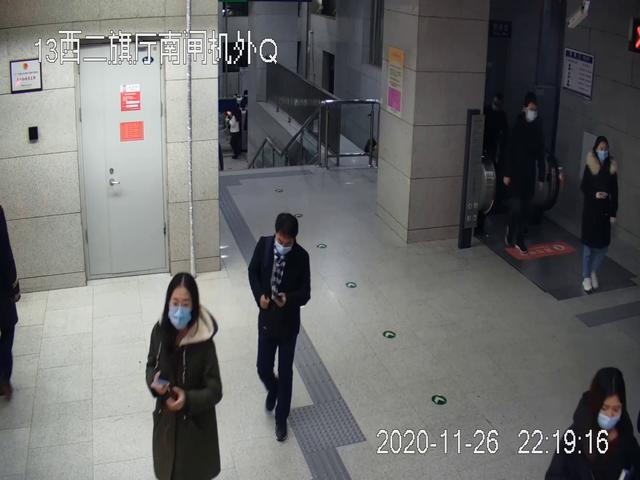person: (143, 272, 225, 480), (249, 213, 313, 442), (545, 368, 640, 480), (503, 94, 547, 256), (578, 137, 618, 292)
